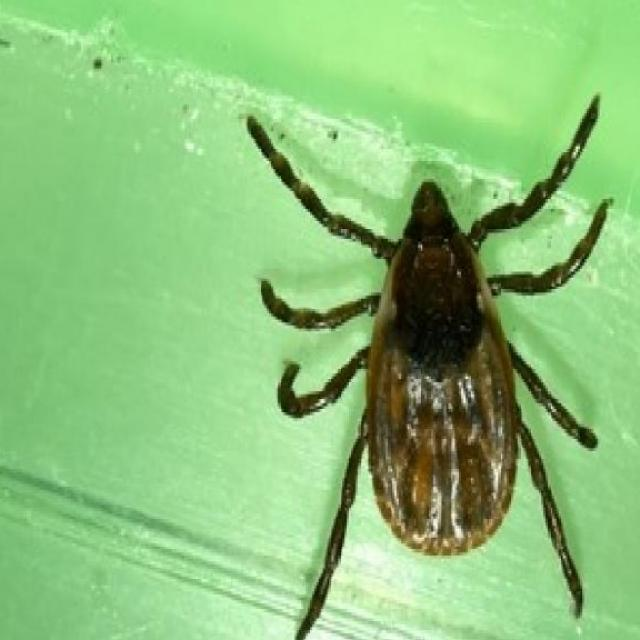Rhipicephalus Sanguineus-F: (243, 95, 610, 640)
